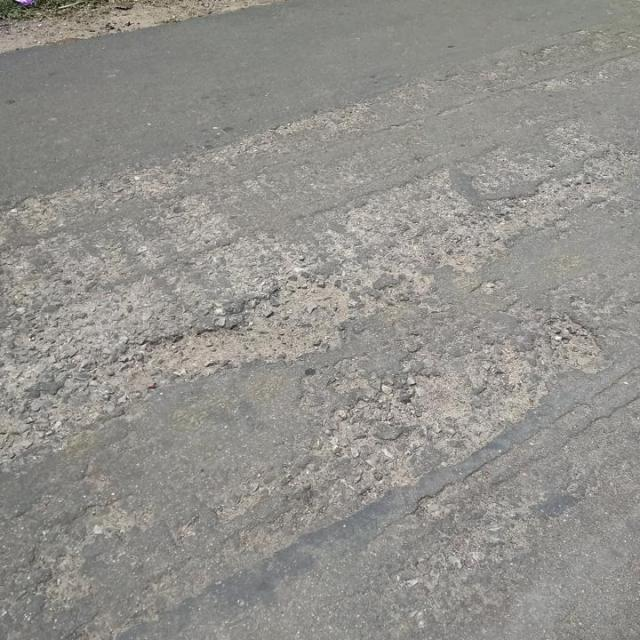pothole: (140, 276, 356, 384), (427, 175, 569, 269), (541, 314, 607, 370)
